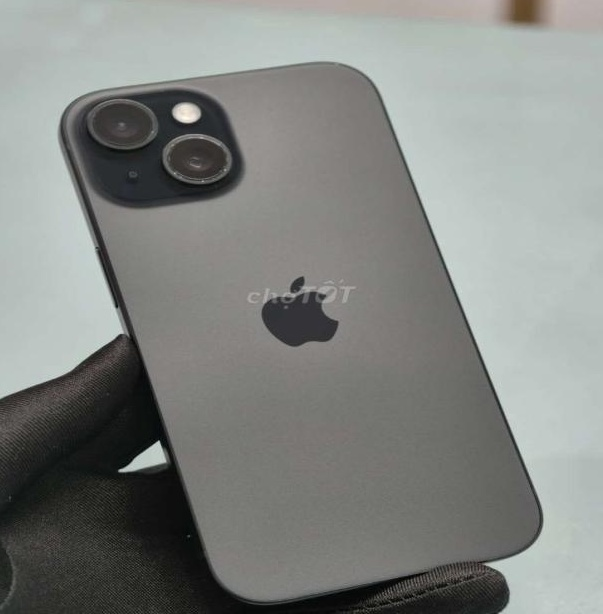scratch: (89, 95, 242, 191)
